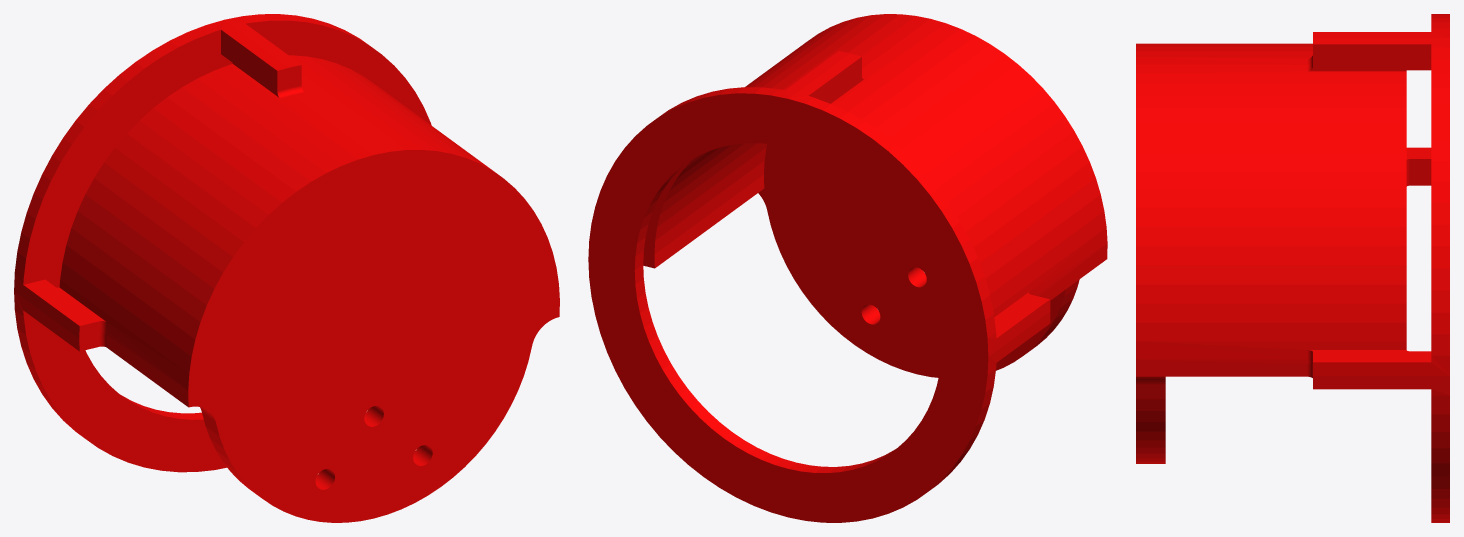
Rendered from head_1_eye_1.glb.
3 views of the same model, side by side, from view 1: azimuth 30°, elevation 25°; view 2: azimuth 150°, elevation 25°; view 3: azimuth 270°, elevation 25° (orthographic). The views are drawn at different scales.
Visible parts, largest first — view 1: head_1_eye_1.obj; view 2: head_1_eye_1.obj; view 3: head_1_eye_1.obj.
Boxes of the visible parts, <box> form: head_1_eye_1.obj: <box>14,14,559,522</box>; head_1_eye_1.obj: <box>588,14,1107,522</box>; head_1_eye_1.obj: <box>1136,14,1449,522</box>.
Size of the model in its own units: 0.0862 by 0.0862 by 0.0532.
